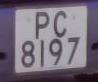1: (37, 37, 49, 71)
7: (64, 33, 83, 69)
8: (19, 38, 38, 72)
9: (47, 36, 66, 69)
C: (51, 9, 70, 40)
P: (33, 9, 53, 42)
